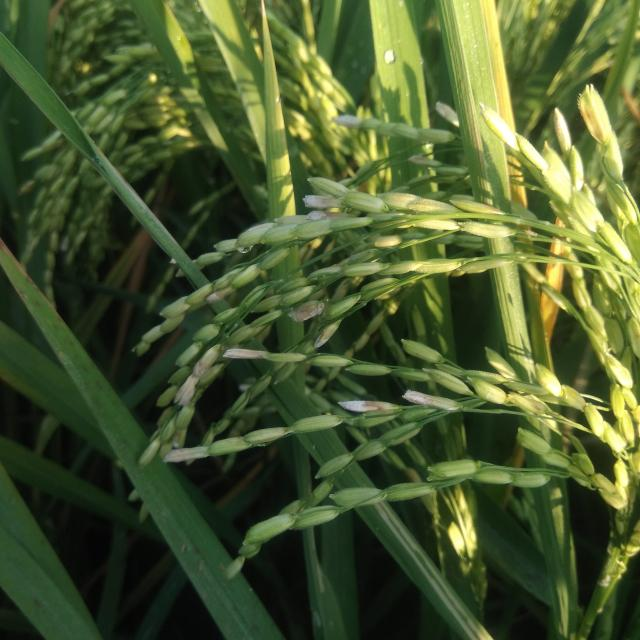brown plant hopper: (65, 118, 197, 284), (368, 504, 489, 640)
insects: (30, 294, 109, 411), (29, 596, 51, 618), (37, 535, 48, 550)
